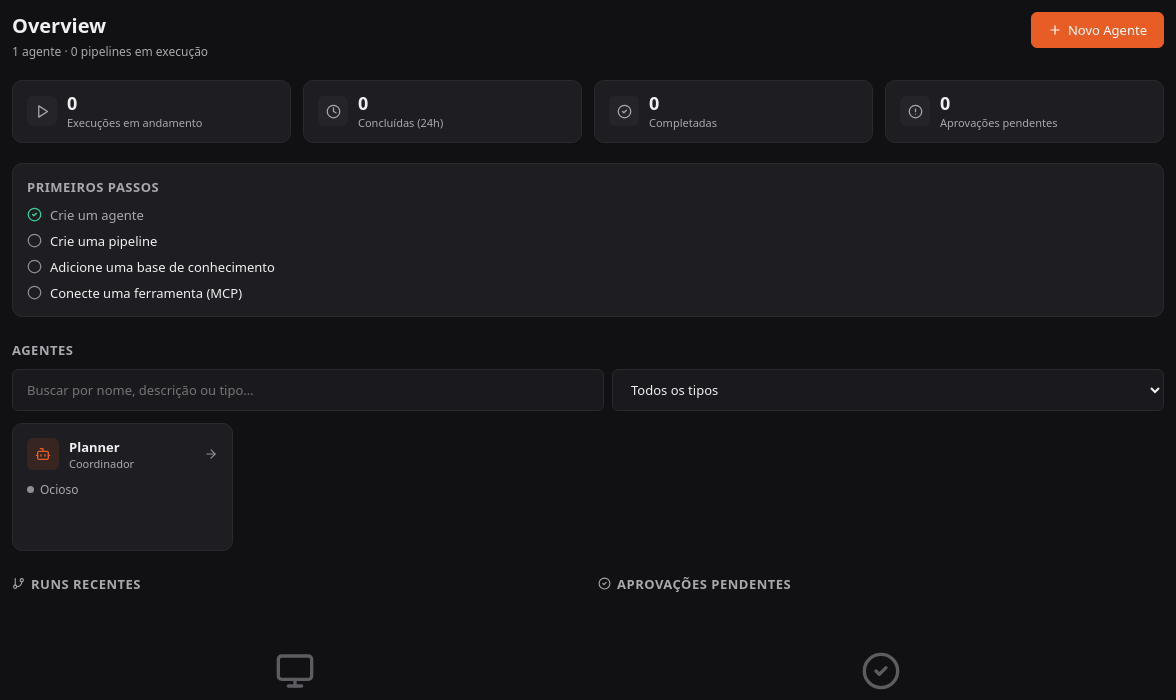
Test: DashboardPage › shows a no-match empty state with a clear-filters action
Expected: the text "Planner" is shown, 69,438 -> 120,456
Type "zzz" into the search field labelled "Buscar por nome, descrição ou tipo" at (308, 390), box 12,369 -> 604,411
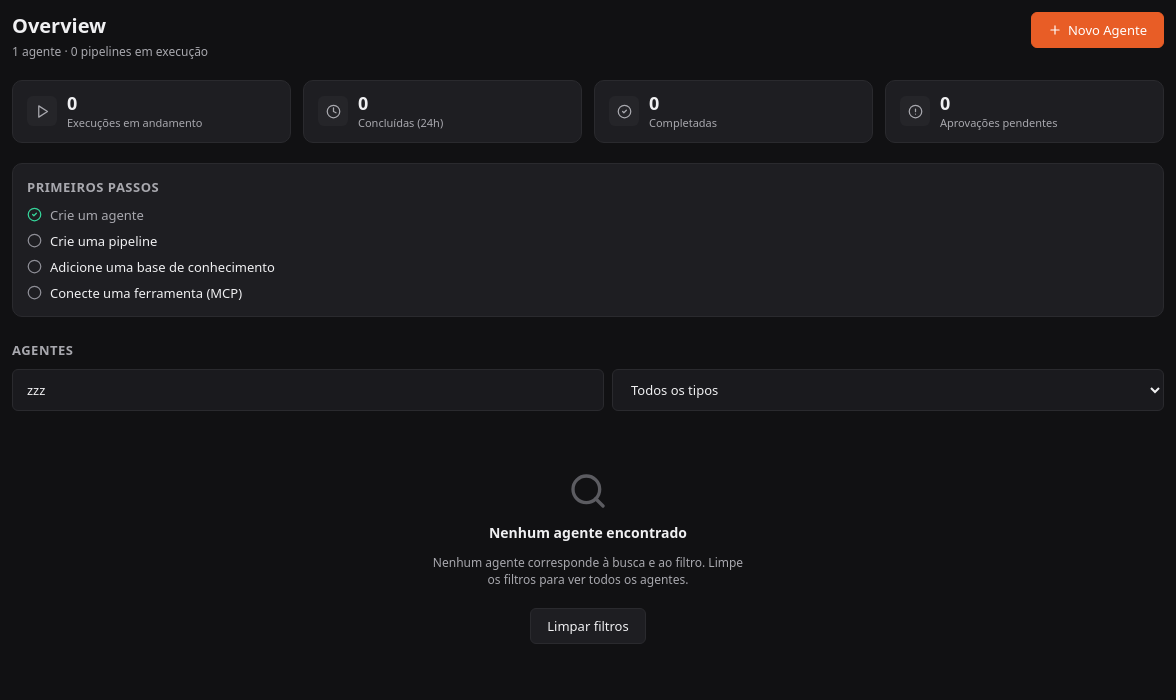
Now the heading "Nenhum agente encontrado" is shown, box 489,523 -> 687,542
Click the button "Limpar filtros" at (588, 626), box 530,608 -> 646,644
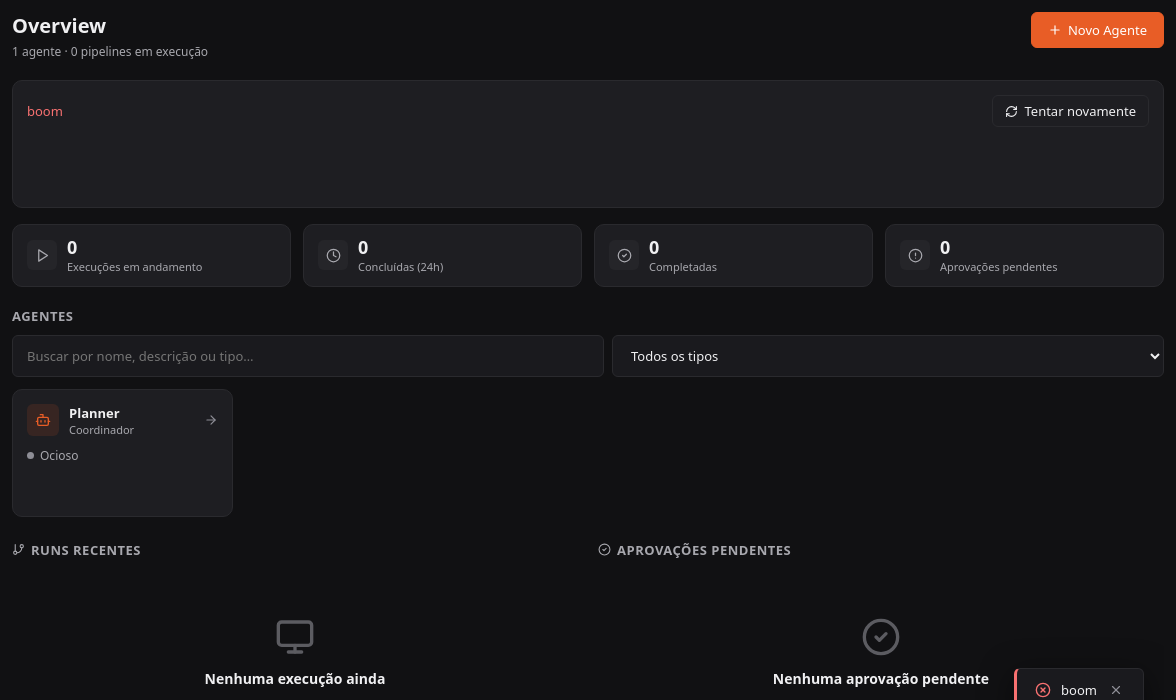
Now the text "Planner" is shown, box 69,404 -> 120,422
